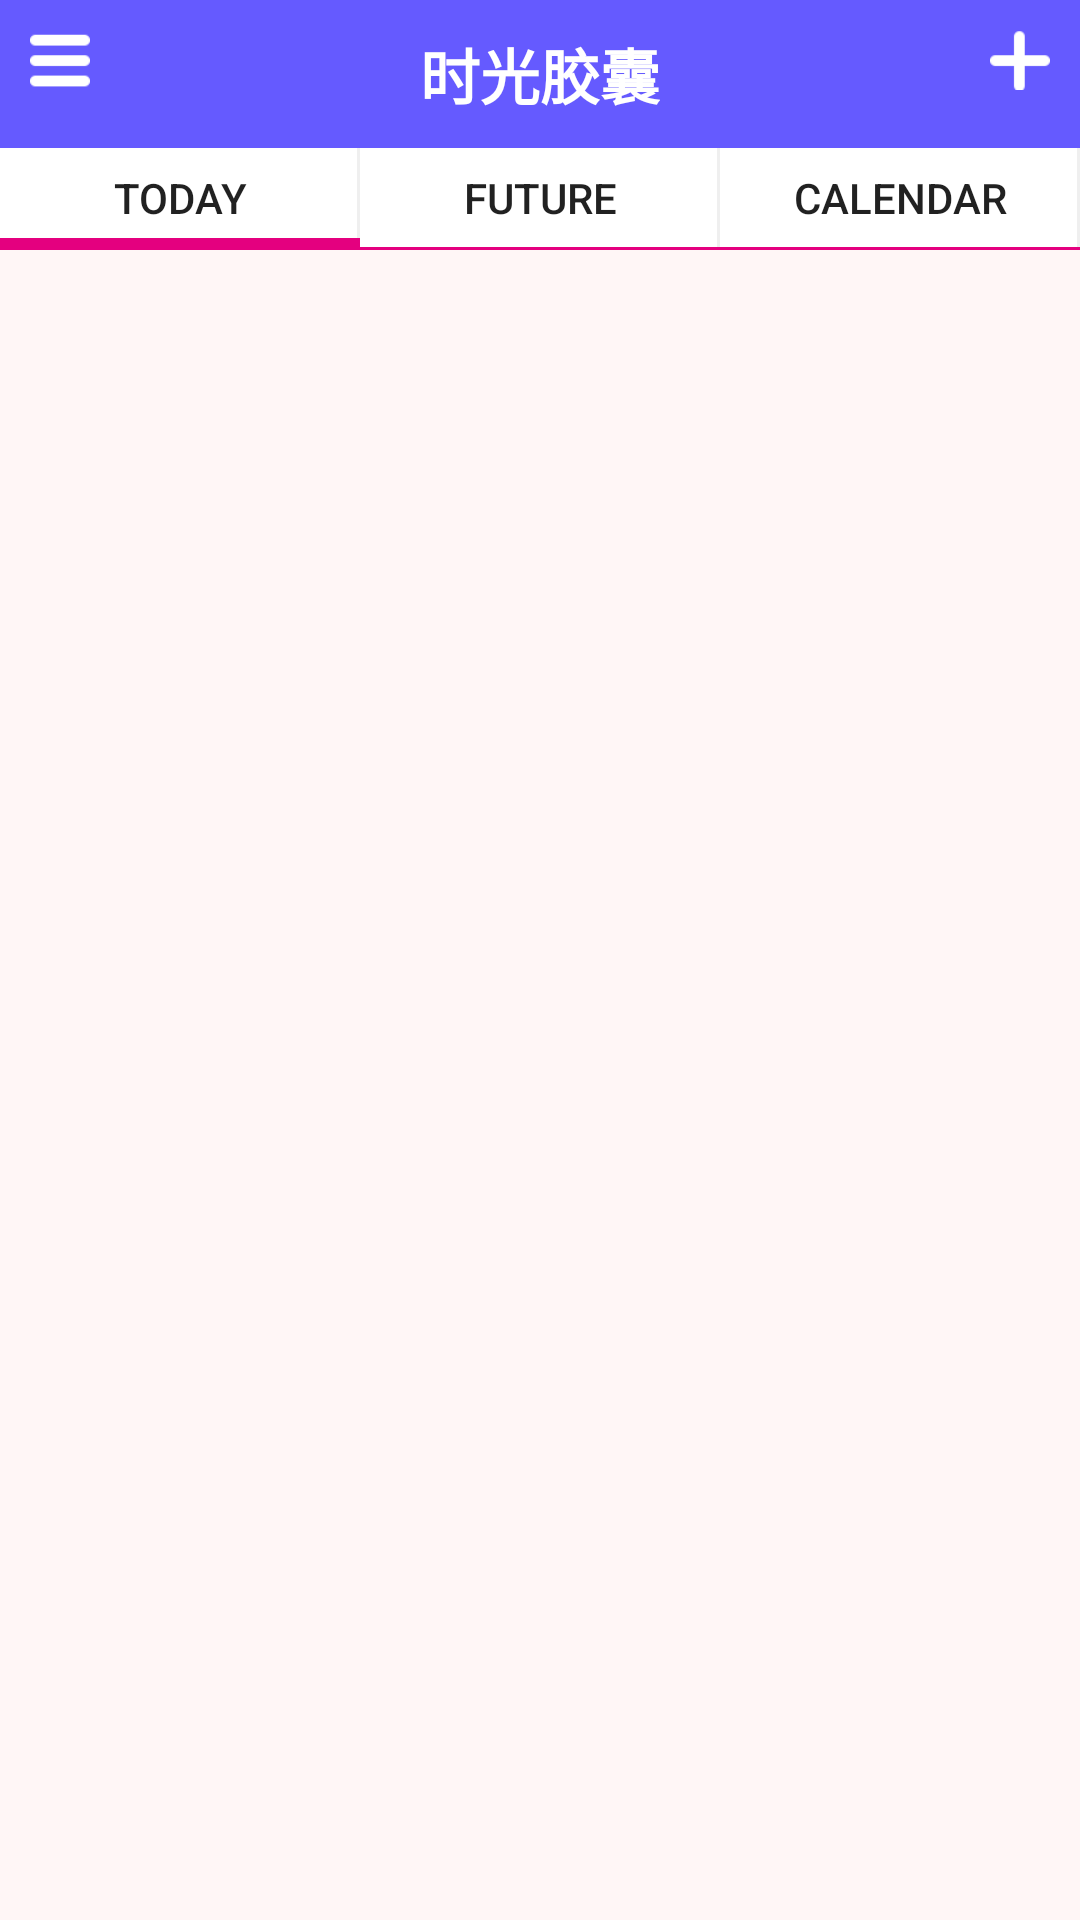

Locate icon controls on the screen. Image size 1080×1920, boxes as (x1, y1, x2, y2).
add: (990, 31, 1050, 90)
